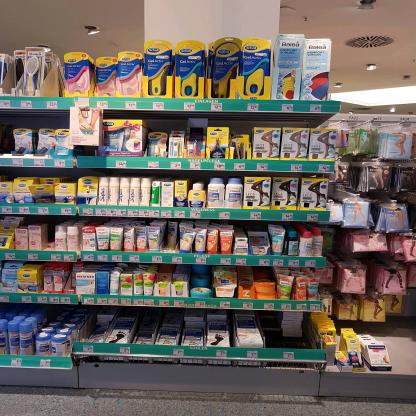Void: (2, 112, 65, 128), (390, 332, 414, 369), (270, 336, 312, 350), (232, 116, 252, 129)
